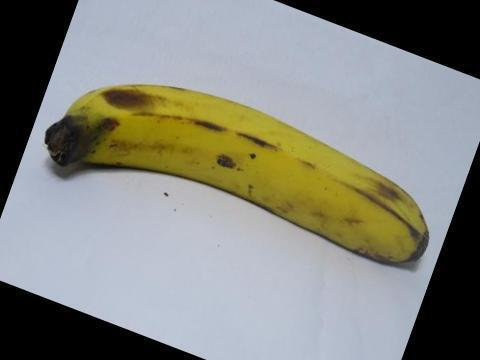ripe: (33, 75, 444, 281)
